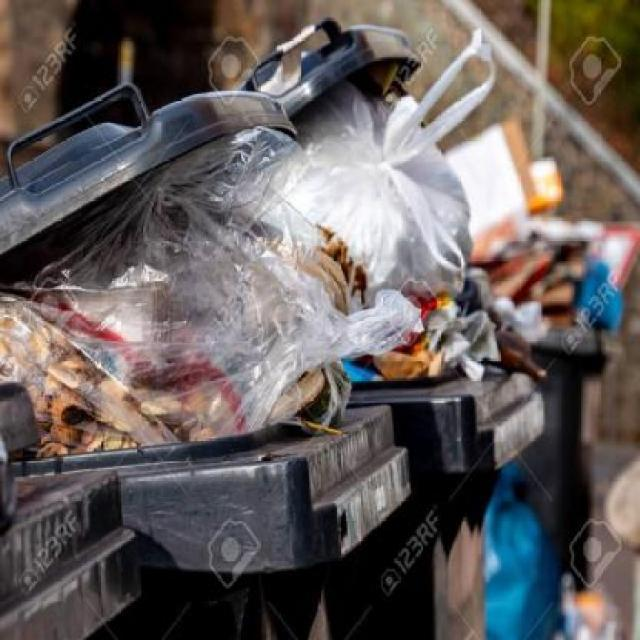garbage: (31, 197, 344, 447), (299, 120, 492, 380), (442, 132, 615, 324)
